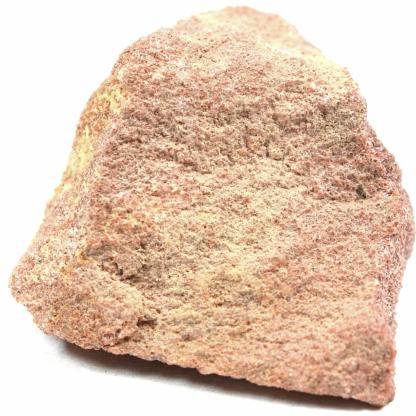Sedimentary_Sandstone: (9, 9, 415, 410)
